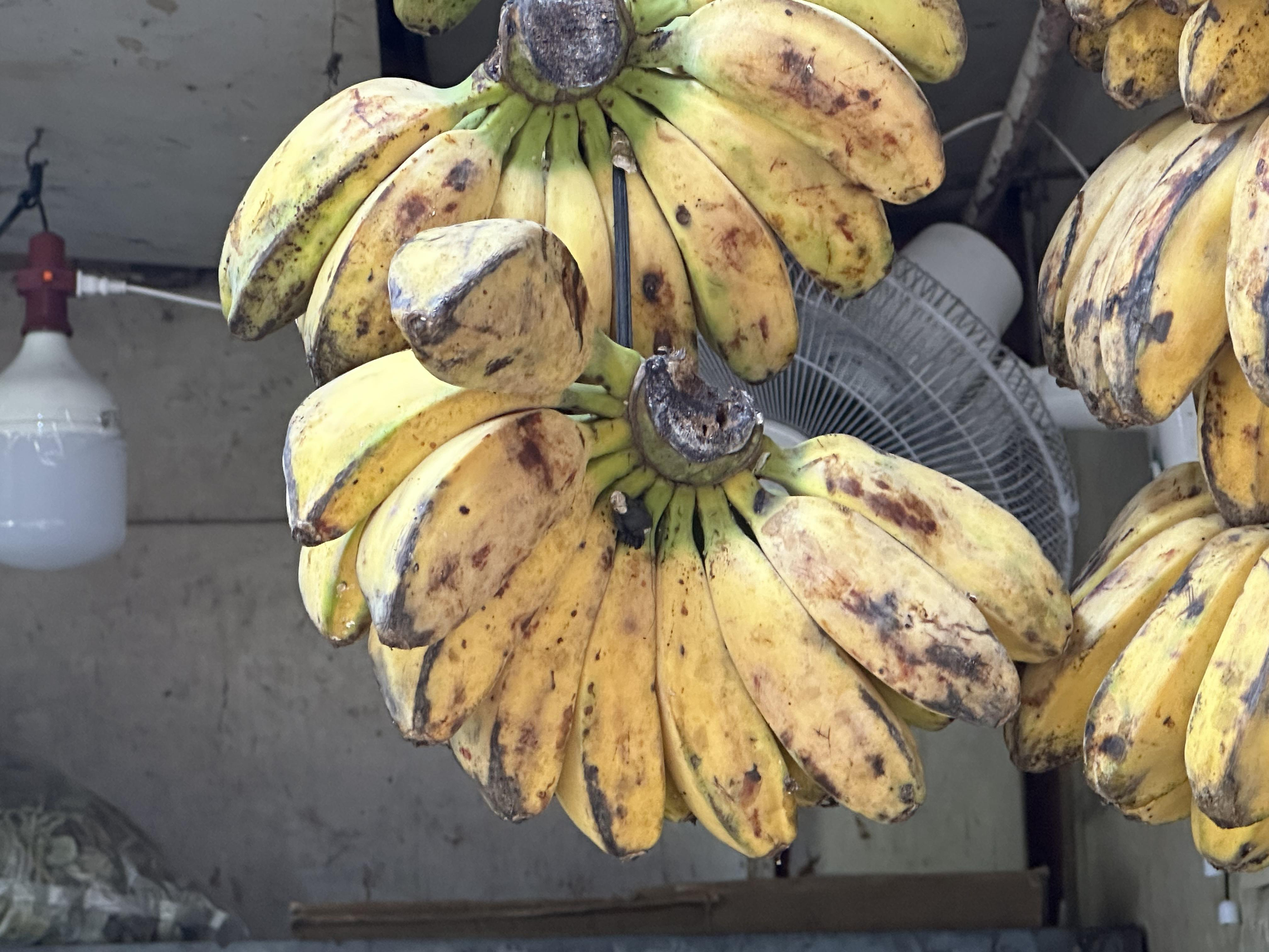ripe: (284, 219, 1072, 857), (1006, 462, 1269, 871), (1038, 104, 1269, 525), (1062, 0, 1269, 121)
underripe: (218, 2, 965, 387)
